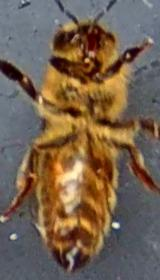varroa_mite: (86, 148, 124, 195)
